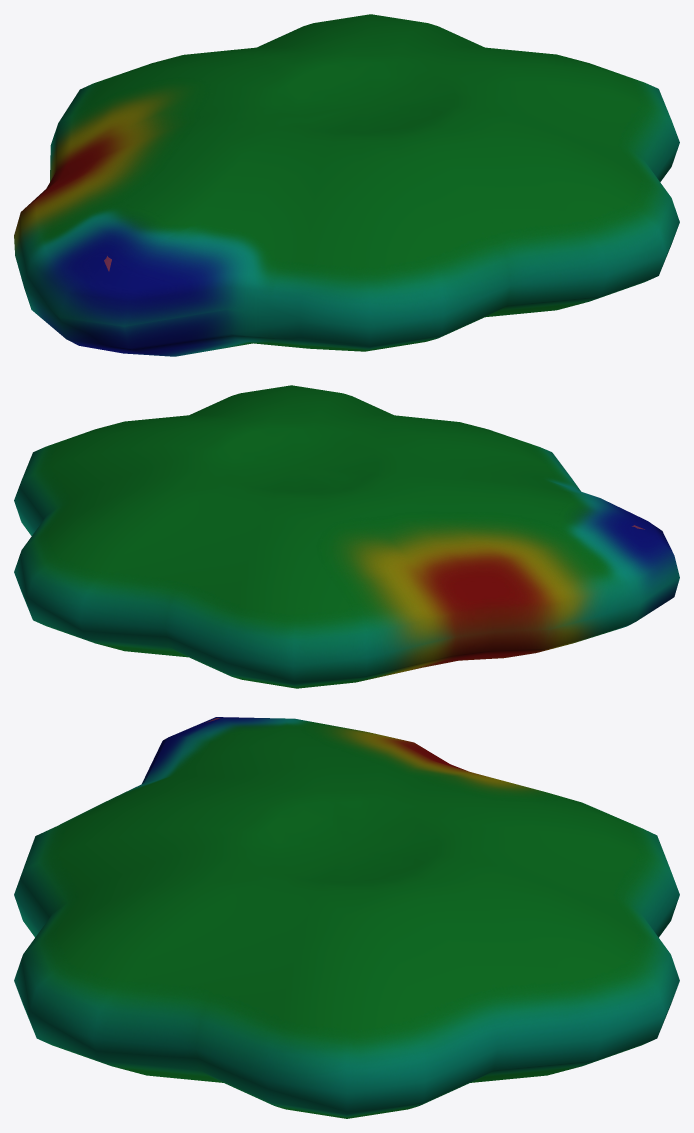
Rendered from Phenol_With_Map.gltf.
The picture shows the model from 3 angles, top to bottom: view 1: azimuth 30°, elevation 25°; view 2: azimuth 150°, elevation 25°; view 3: azimuth 270°, elevation 25°; orthographic projection. The views are drawn at different scales.
Visible parts, largest first — view 1: phenol_Map; view 2: phenol_Map; view 3: phenol_Map.
Boxes of the visible parts, x1=… form: phenol_Map: x1=14, y1=14, x2=679, y2=356; phenol_Map: x1=14, y1=385, x2=679, y2=688; phenol_Map: x1=14, y1=717, x2=679, y2=1118.
Bounding box in the file's own units: 1.89 × 0.463 × 1.52.
6 materials, 5 textured.
